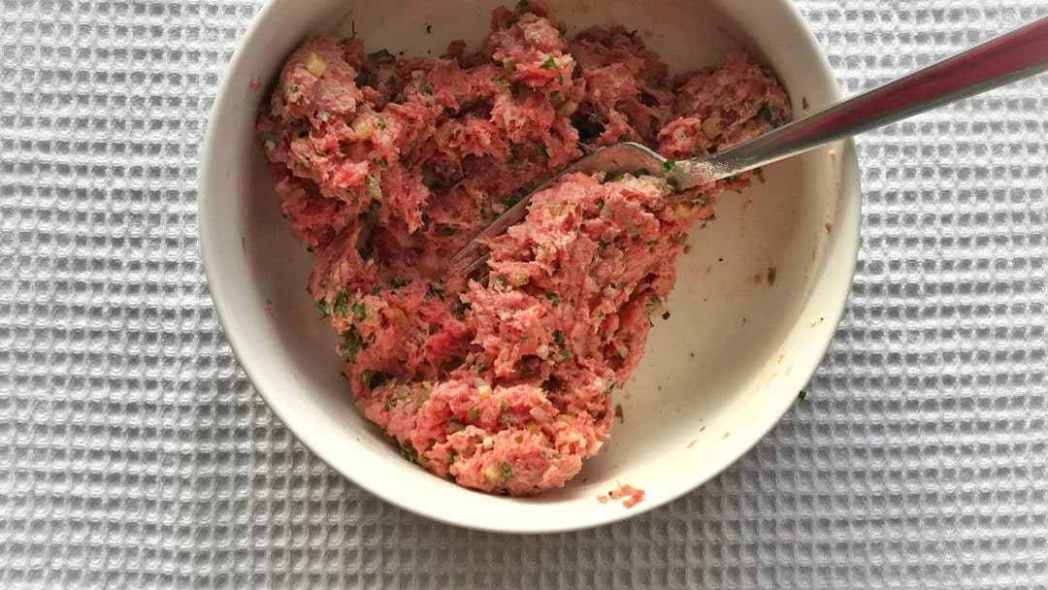ground_beef: (319, 65, 759, 485)
